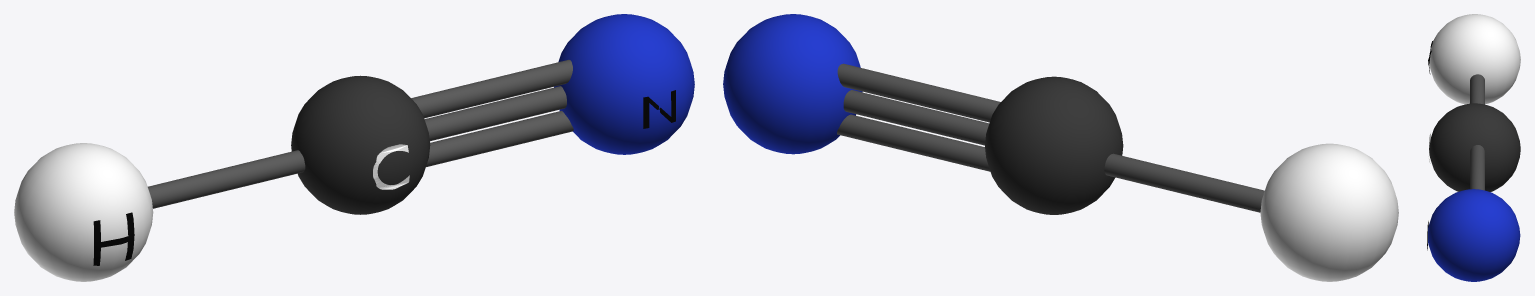
Rendered from hcn.fbx.
The picture shows the model from 3 angles, left to right: view 1: azimuth 30°, elevation 25°; view 2: azimuth 150°, elevation 25°; view 3: azimuth 270°, elevation 25°; orthographic projection. The views are drawn at different scales.
Visible parts, largest first — view 1: Sphere.025, Sphere.027, Sphere.026, Cylinder.020, Cylinder.021, Cylinder.005, Cylinder.019, Text.019, Text.006, Text.025; view 2: Sphere.026, Sphere.025, Sphere.027, Cylinder.021, Cylinder.020, Cylinder.005, Cylinder.019; view 3: Sphere.027, Sphere.026, Sphere.025, Cylinder.020, Cylinder.021.
Boxes of the visible parts, box(x1,y1,x2,y2) form: Sphere.025: box(291, 75, 430, 214); Sphere.027: box(554, 14, 694, 154); Sphere.026: box(14, 143, 153, 281); Cylinder.020: box(411, 59, 572, 118); Cylinder.021: box(148, 150, 305, 208); Cylinder.005: box(426, 111, 573, 166); Cylinder.019: box(424, 86, 566, 141); Text.019: box(93, 212, 134, 265); Text.006: box(373, 144, 409, 189); Text.025: box(643, 90, 675, 128); Sphere.026: box(1260, 143, 1398, 281); Sphere.025: box(985, 76, 1123, 214); Sphere.027: box(723, 14, 862, 154); Cylinder.021: box(1104, 153, 1264, 212); Cylinder.020: box(837, 63, 1000, 122); Cylinder.005: box(837, 114, 990, 171); Cylinder.019: box(843, 90, 989, 145); Sphere.027: box(1428, 189, 1520, 281); Sphere.026: box(1429, 14, 1520, 104); Sphere.025: box(1429, 103, 1520, 191); Cylinder.020: box(1470, 145, 1484, 190); Cylinder.021: box(1470, 74, 1484, 104).
Size of the model in its own units: 768 by 144 by 143.
